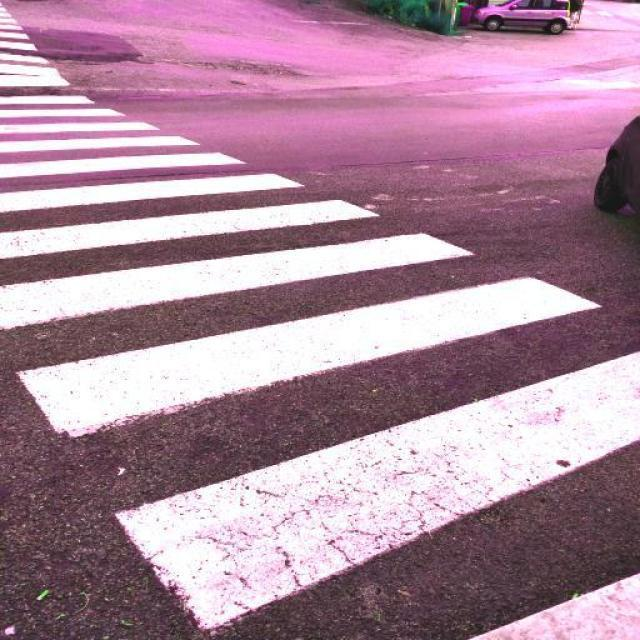crosswalk: (0, 2, 640, 638)
